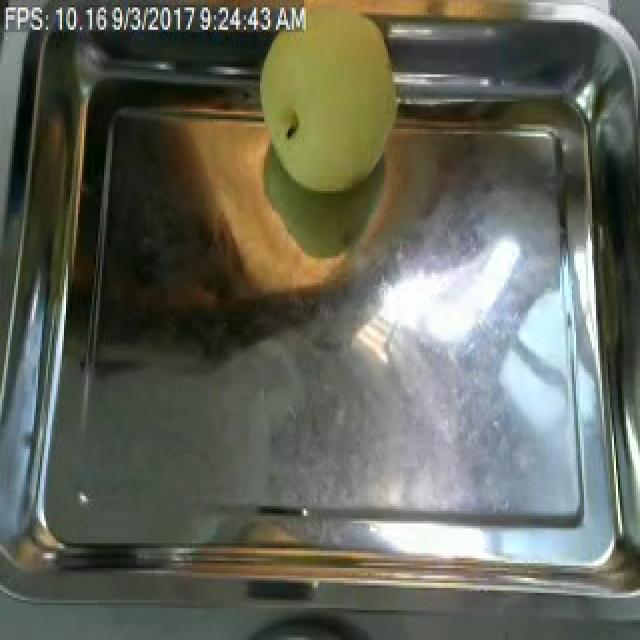Fruit: (252, 17, 412, 206)
